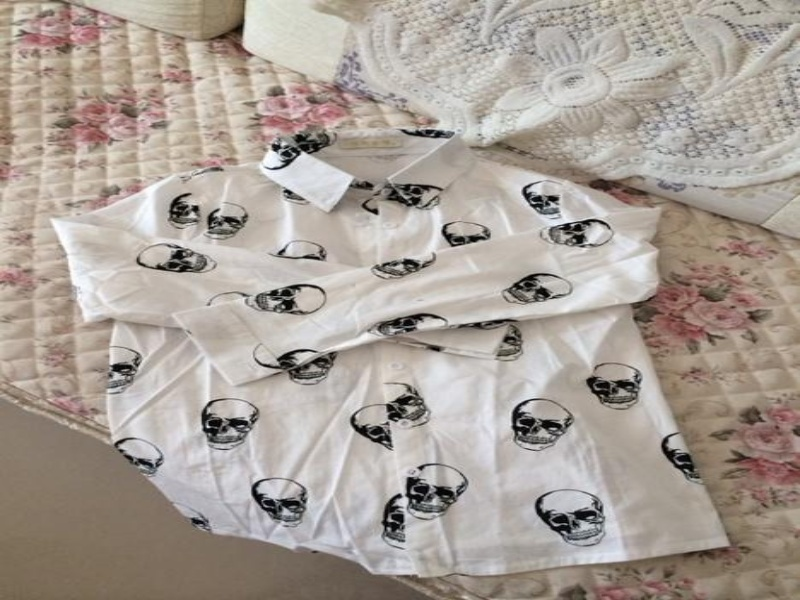long_sleeved_shirt: (46, 127, 735, 583)
